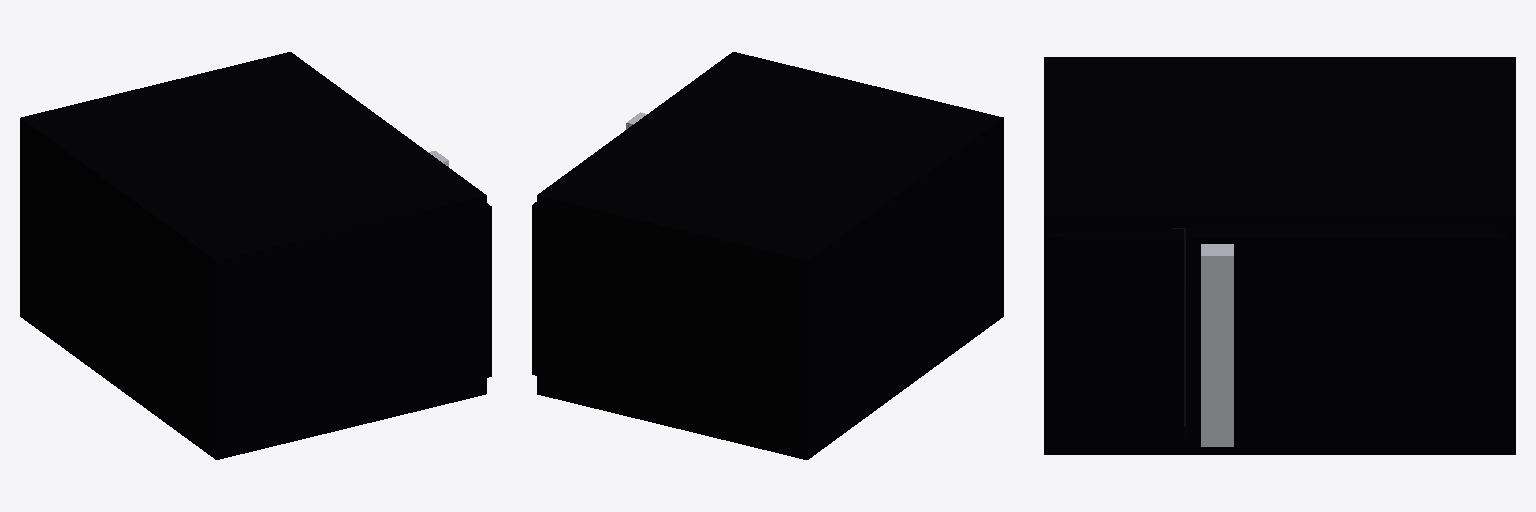
The robot description file, URDF, robot "samsung_microwave":
<?xml version="1.0"?>
<robot name="samsung_microwave">
  <material name="black">
    <color rgba="0.03 0.03 0.04 1.0"/>
  </material>
  <material name="dark_grey">
    <color rgba="0.12 0.12 0.13 1.0"/>
  </material>
  <material name="silver">
    <color rgba="0.75 0.76 0.78 1.0"/>
  </material>
  <material name="glass">
    <color rgba="0.25 0.22 0.15 0.6"/>
  </material>

  <!-- Base / chassis. Origin at bottom-center sitting on shelf.
       X forward (depth), Y left (width), Z up (height).
       Real size: ~0.49 W x 0.275 H x 0.39 D -->
  <link name="base_link">
    <inertial>
      <origin xyz="0 0 0.1375" rpy="0 0 0"/>
      <mass value="12.0"/>
      <inertia ixx="0.316" ixy="0" ixz="0" iyy="0.228" iyz="0" izz="0.392"/>
    </inertial>
    <!-- top -->
    <visual>
      <origin xyz="0 0 0.2675" rpy="0 0 0"/>
      <geometry><box size="0.39 0.49 0.015"/></geometry>
      <material name="black"/>
    </visual>
    <!-- bottom -->
    <visual>
      <origin xyz="0 0 0.0075" rpy="0 0 0"/>
      <geometry><box size="0.39 0.49 0.015"/></geometry>
      <material name="black"/>
    </visual>
    <!-- back -->
    <visual>
      <origin xyz="-0.1875 0 0.1375" rpy="0 0 0"/>
      <geometry><box size="0.015 0.49 0.275"/></geometry>
      <material name="black"/>
    </visual>
    <!-- left wall -->
    <visual>
      <origin xyz="0 0.235 0.1375" rpy="0 0 0"/>
      <geometry><box size="0.39 0.02 0.275"/></geometry>
      <material name="black"/>
    </visual>
    <!-- right outer wall (behind control panel) -->
    <visual>
      <origin xyz="0 -0.235 0.1375" rpy="0 0 0"/>
      <geometry><box size="0.39 0.02 0.275"/></geometry>
      <material name="black"/>
    </visual>
    <!-- divider between cavity and electronics -->
    <visual>
      <origin xyz="0 -0.105 0.1375" rpy="0 0 0"/>
      <geometry><box size="0.34 0.015 0.235"/></geometry>
      <material name="dark_grey"/>
    </visual>
    <!-- control panel front -->
    <visual>
      <origin xyz="0.195 -0.17 0.1375" rpy="0 0 0"/>
      <geometry><box size="0.02 0.14 0.235"/></geometry>
      <material name="black"/>
    </visual>
    <!-- glass turntable inside (static) -->
    <visual>
      <origin xyz="0.0 0.065 0.035" rpy="0 0 0"/>
      <geometry><cylinder radius="0.14" length="0.01"/></geometry>
      <material name="glass"/>
    </visual>

    <collision>
      <origin xyz="0 0 0.2675" rpy="0 0 0"/>
      <geometry><box size="0.39 0.49 0.015"/></geometry>
    </collision>
    <collision>
      <origin xyz="0 0 0.0075" rpy="0 0 0"/>
      <geometry><box size="0.39 0.49 0.015"/></geometry>
    </collision>
    <collision>
      <origin xyz="-0.1875 0 0.1375" rpy="0 0 0"/>
      <geometry><box size="0.015 0.49 0.275"/></geometry>
    </collision>
    <collision>
      <origin xyz="0 0.235 0.1375" rpy="0 0 0"/>
      <geometry><box size="0.39 0.02 0.275"/></geometry>
    </collision>
    <collision>
      <origin xyz="0 -0.17 0.1375" rpy="0 0 0"/>
      <geometry><box size="0.39 0.15 0.275"/></geometry>
    </collision>
  </link>

  <!-- Door. Hinge on left-front edge, handle on right edge of door -->
  <link name="door">
    <inertial>
      <origin xyz="0 -0.165 0" rpy="0 0 0"/>
      <mass value="1.5"/>
      <inertia ixx="0.0231" ixy="0" ixz="0" iyy="0.0079" iyz="0" izz="0.0154"/>
    </inertial>
    <visual>
      <origin xyz="0 -0.165 0" rpy="0 0 0"/>
      <geometry><box size="0.025 0.33 0.235"/></geometry>
      <material name="black"/>
    </visual>
    <!-- vertical silver handle -->
    <visual>
      <origin xyz="0.025 -0.30 0" rpy="0 0 0"/>
      <geometry><box size="0.03 0.035 0.22"/></geometry>
      <material name="silver"/>
    </visual>
    <collision>
      <origin xyz="0 -0.165 0" rpy="0 0 0"/>
      <geometry><box size="0.025 0.33 0.235"/></geometry>
    </collision>
    <collision>
      <origin xyz="0.025 -0.30 0" rpy="0 0 0"/>
      <geometry><box size="0.03 0.035 0.22"/></geometry>
    </collision>
  </link>

  <joint name="door_hinge" type="revolute">
    <parent link="base_link"/>
    <child link="door"/>
    <origin xyz="0.195 0.235 0.1375" rpy="0 0 0"/>
    <axis xyz="0 0 1"/>
    <limit lower="0" upper="1.75" effort="10" velocity="1.0"/>
    <dynamics damping="0.2" friction="0.1"/>
  </joint>

</robot>

--- Facts derived from the render (not from the file) ---
The picture shows the robot from 3 angles, left to right: view 1: azimuth 30°, elevation 25°; view 2: azimuth 150°, elevation 25°; view 3: azimuth 270°, elevation 25°; orthographic projection.
Robot: samsung_microwave — 2 links, 1 joints (1 revolute); root link base_link; default pose: every joint at zero.
Visible links, largest first — view 1: base_link; view 2: base_link, door; view 3: base_link, door.
Boxes of the visible links, bbox=[...] form: base_link: bbox=[20, 52, 491, 459]; base_link: bbox=[537, 52, 1003, 459]; door: bbox=[532, 112, 646, 375]; base_link: bbox=[1044, 57, 1515, 454]; door: bbox=[1189, 228, 1505, 446].
Size in the robot's own frame: 0.43 by 0.49 by 0.275 metres.
Geometry: primitives only (box / cylinder / sphere), no mesh files.
